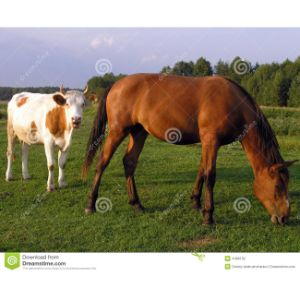cow: (5, 84, 89, 196)
horse: (92, 73, 295, 229)
